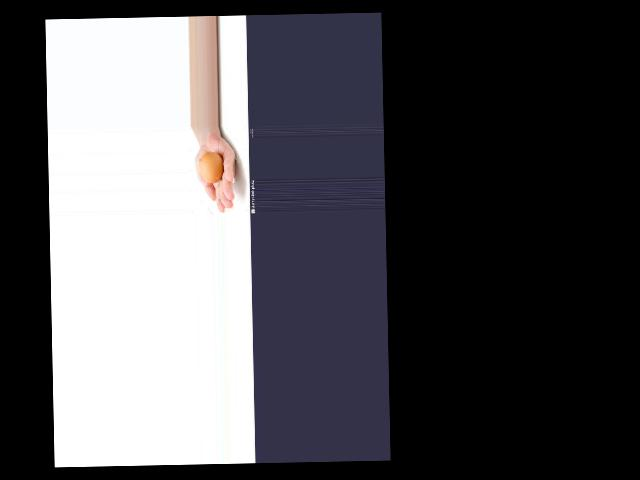egg: (198, 150, 223, 182)
